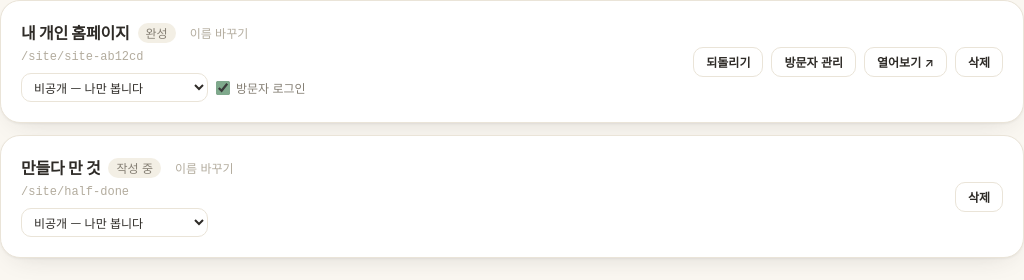
Test: [P5-3] ProjectList — 공개범위 바꾸기 › 공개하면 남에게 줄 주소를 복사할 수 있게 해준다
expect the button "주소 복사" is not shown: met
Select "링크를 아는 사람만 봅니다" in the dropdown named "공개범위" next to "방문자 로그인" at (114, 88), box top-left (21, 73), bottom-right (208, 102)
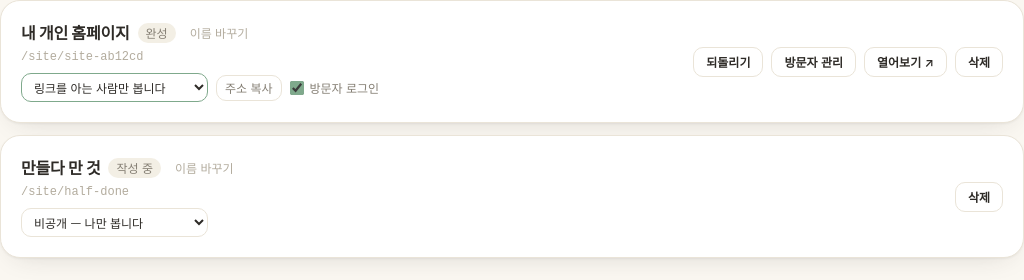
expect the button "주소 복사" is shown: met, box top-left (216, 74), bottom-right (282, 100)
